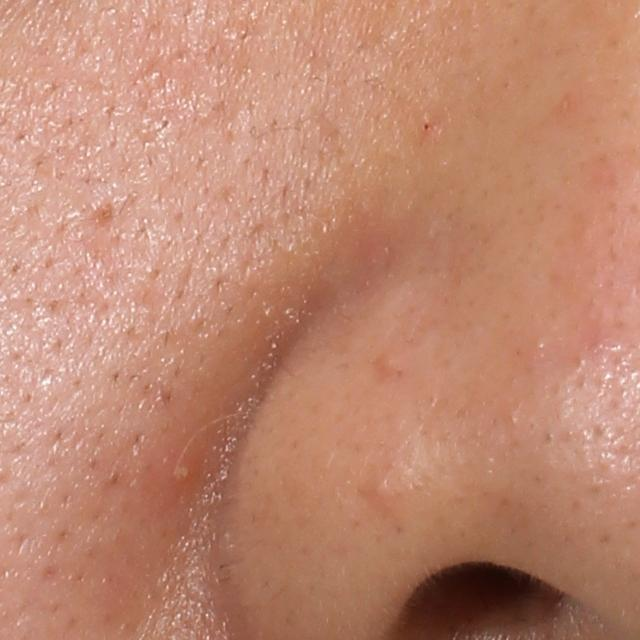comedo: (366, 473, 396, 500)
